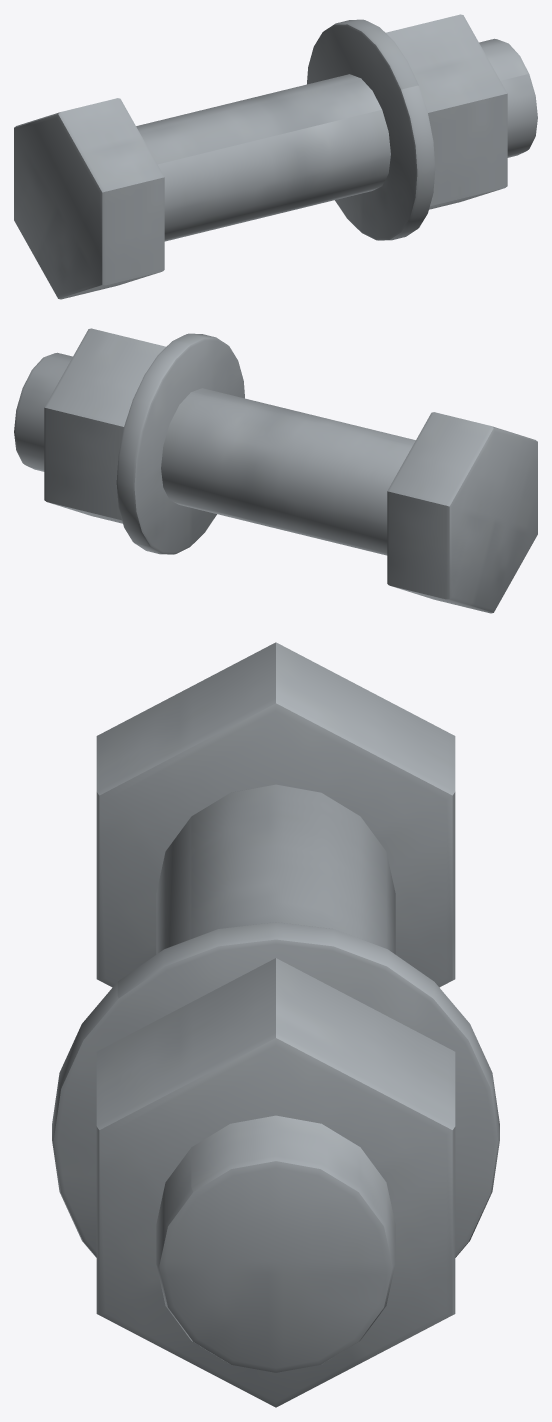
The model's file is EST-MET-006.glb.
3 views of the same model, one above another, from view 1: azimuth 30°, elevation 25°; view 2: azimuth 150°, elevation 25°; view 3: azimuth 270°, elevation 25° (orthographic). The views are drawn at different scales.
Parts seen in each view (by area): view 1: EST-MET-006_haste, EST-MET-006_cabeca, EST-MET-006_porca, EST-MET-006_arruela; view 2: EST-MET-006_haste, EST-MET-006_cabeca, EST-MET-006_porca, EST-MET-006_arruela; view 3: EST-MET-006_haste, EST-MET-006_porca, EST-MET-006_cabeca, EST-MET-006_arruela.
Boxes of the visible parts, x1,y1,x2,y2 form: EST-MET-006_haste: [136, 38, 537, 241]; EST-MET-006_cabeca: [14, 98, 164, 299]; EST-MET-006_porca: [386, 14, 507, 209]; EST-MET-006_arruela: [307, 19, 435, 240]; EST-MET-006_haste: [14, 352, 415, 555]; EST-MET-006_cabeca: [387, 412, 537, 613]; EST-MET-006_porca: [44, 328, 165, 523]; EST-MET-006_arruela: [116, 333, 244, 554]; EST-MET-006_haste: [156, 784, 395, 1372]; EST-MET-006_porca: [96, 958, 455, 1407]; EST-MET-006_cabeca: [96, 642, 455, 987]; EST-MET-006_arruela: [52, 922, 499, 1257].
Size of the model in its own units: 0.07 by 0.03 by 0.03.
1 material, 1 textured.
